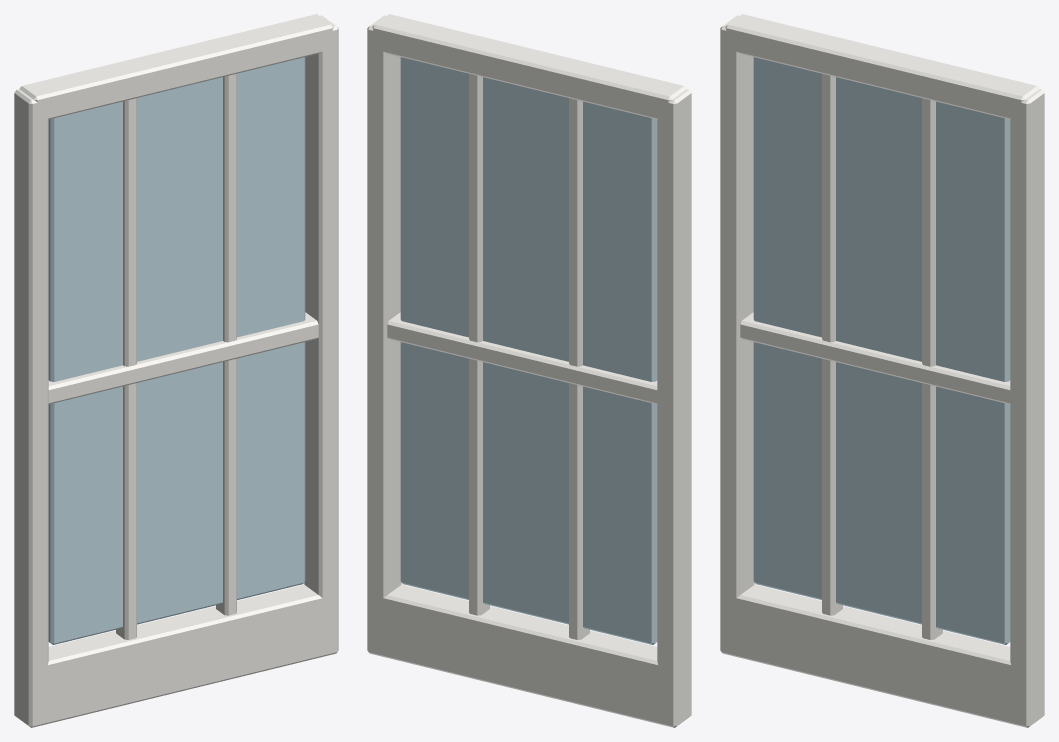
Rendered from SM_Veranda_Panel.fbx.
3 renders of one model, left to right at view 1: azimuth 30°, elevation 25°; view 2: azimuth 150°, elevation 25°; view 3: azimuth 330°, elevation 25°, orthographic.
Parts seen in each view (by area): view 1: Veranda_Panel; view 2: Veranda_Panel; view 3: Veranda_Panel.
Boxes of the visible parts, x1=… form: Veranda_Panel: x1=14, y1=14, x2=338, y2=727; Veranda_Panel: x1=367, y1=14, x2=691, y2=727; Veranda_Panel: x1=720, y1=14, x2=1044, y2=727.
Bounding box in the file's own units: 124 × 241 × 12.
